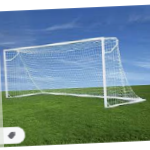goals: (1, 35, 150, 111)
